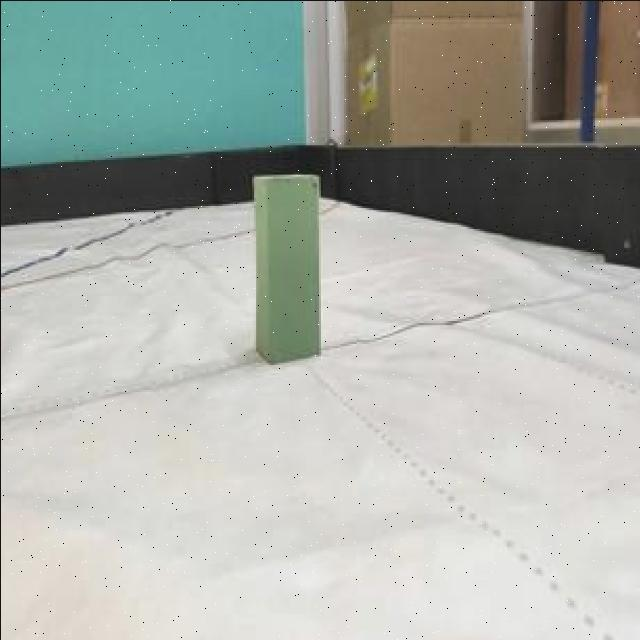greenbox: (252, 172, 319, 362)
